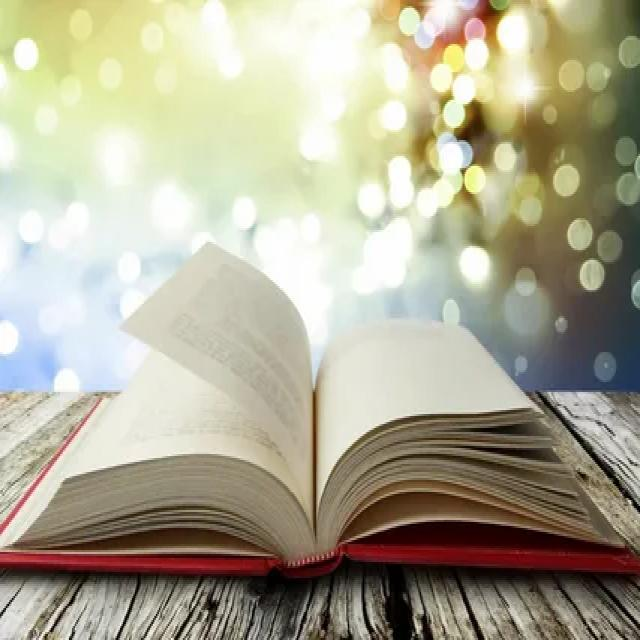book: (0, 238, 640, 604)
